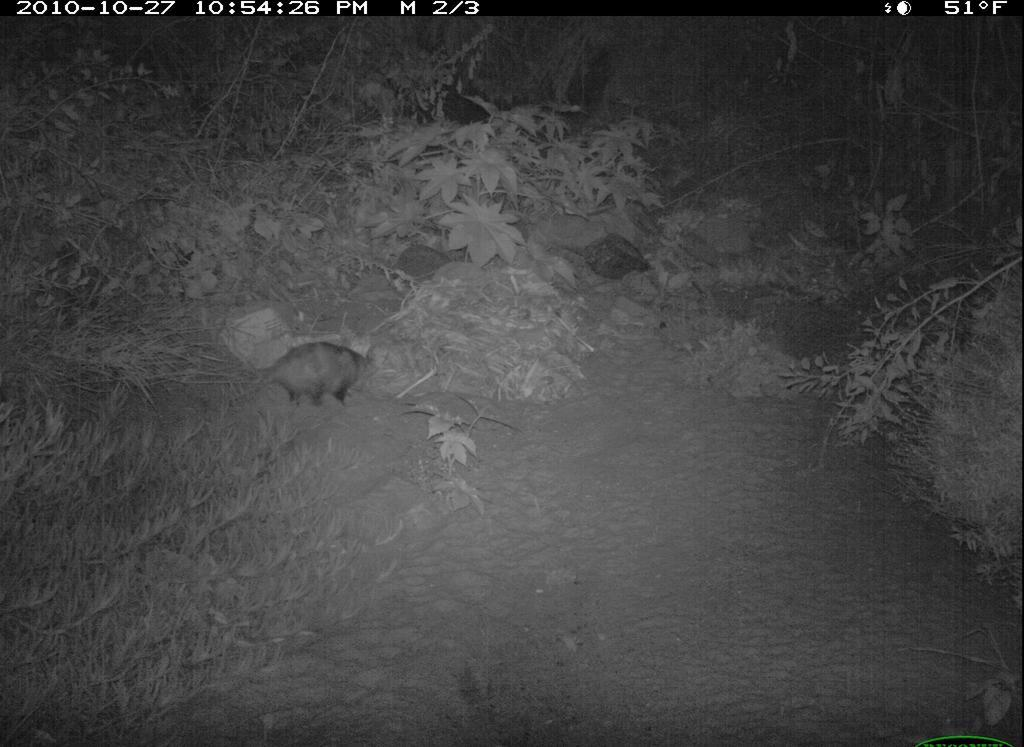opossum: (221, 338, 382, 417)
